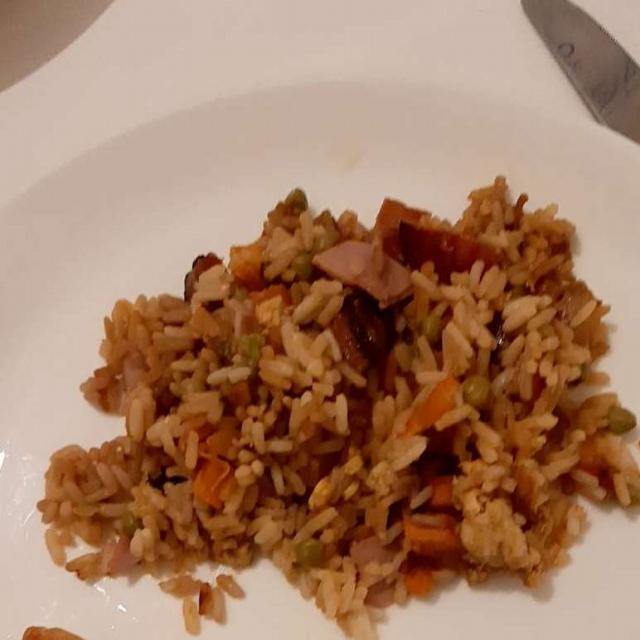cantonese-fried-rice: (44, 188, 625, 619)
